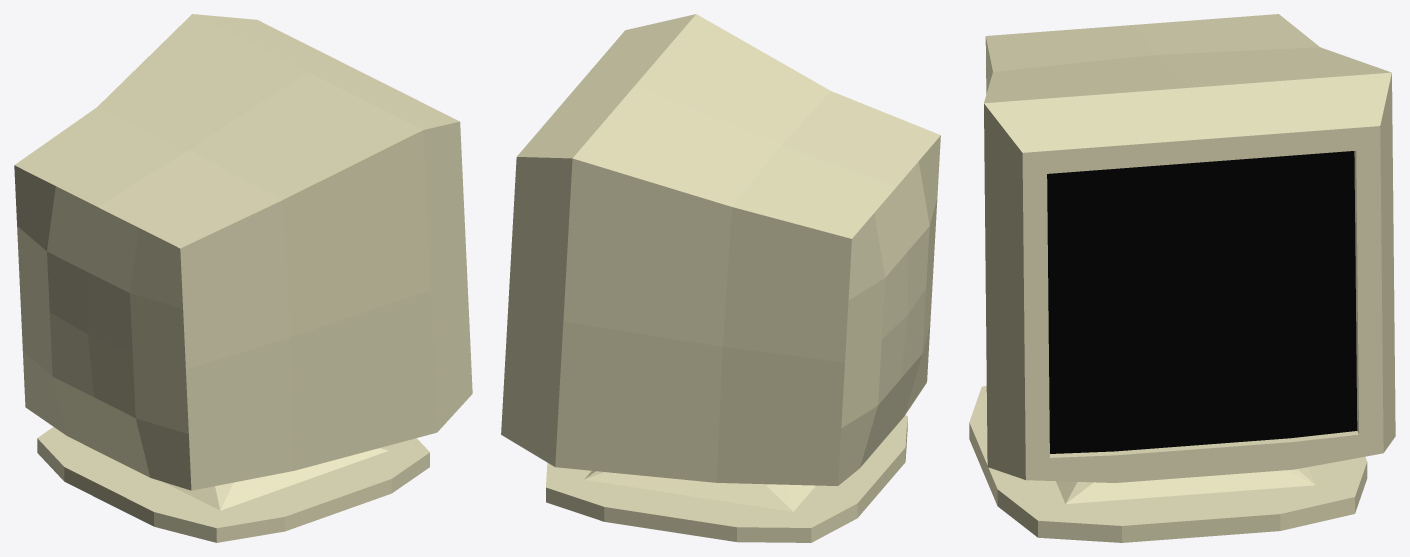
File: Monitor_center.fbx
3 renders of one model, left to right at view 1: azimuth 30°, elevation 25°; view 2: azimuth 150°, elevation 25°; view 3: azimuth 270°, elevation 25°, orthographic. The views are drawn at different scales.
Visible parts, largest first — view 1: Monitor_center; view 2: Monitor_center; view 3: Monitor_center.
Boxes of the visible parts, x1,y1,x2,y2 form: Monitor_center: (14,14,472,542); Monitor_center: (501,14,940,542); Monitor_center: (969,14,1395,542).
Bounding box in the file's own units: 89.81 × 88.92 × 82.28.
